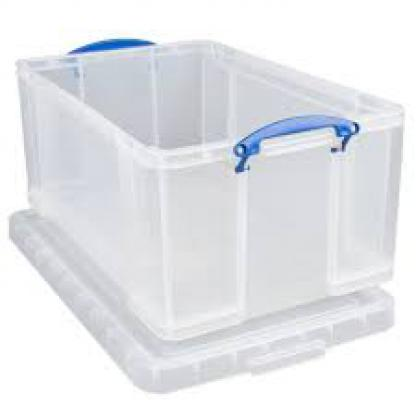plastic_box: (4, 13, 410, 392)
